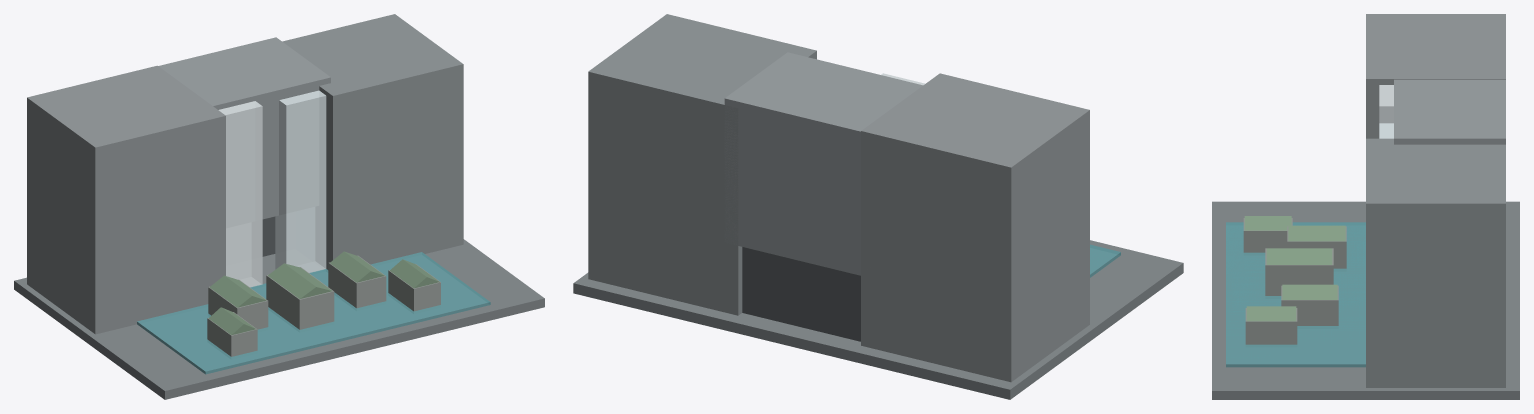
File: lm_43_thac_voi_elephant_waterfall_and_hang_gio_nam_ban.glb
3 renders of one model, left to right at view 1: azimuth 30°, elevation 25°; view 2: azimuth 150°, elevation 25°; view 3: azimuth 270°, elevation 25°, orthographic. The views are drawn at different scales.
Parts seen in each view (by area): view 1: lm_43_thac_voi_elephant_waterfall_and_hang_gio_nam_ban; view 2: lm_43_thac_voi_elephant_waterfall_and_hang_gio_nam_ban; view 3: lm_43_thac_voi_elephant_waterfall_and_hang_gio_nam_ban.
Part boxes in pixels (x1,y1,x2,y2): lm_43_thac_voi_elephant_waterfall_and_hang_gio_nam_ban: (14, 14, 544, 399); lm_43_thac_voi_elephant_waterfall_and_hang_gio_nam_ban: (573, 14, 1183, 399); lm_43_thac_voi_elephant_waterfall_and_hang_gio_nam_ban: (1212, 14, 1519, 399).
Bounding box in the file's own units: 64 × 31.5 × 44.
